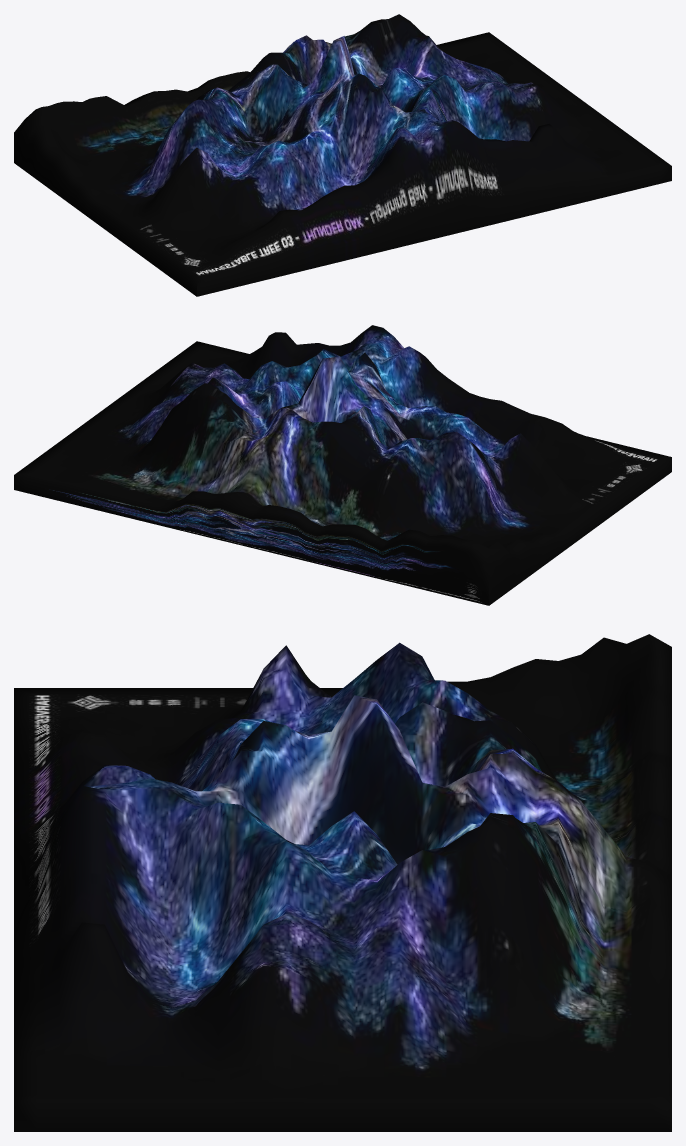
Rendered from TREE_03_Thunder_Oak.glb.
3 views of the same model, one above another, from view 1: azimuth 30°, elevation 25°; view 2: azimuth 150°, elevation 25°; view 3: azimuth 270°, elevation 25° (orthographic). The views are drawn at different scales.
Visible parts, largest first — view 1: TREE_03_Thunder_Oak; view 2: TREE_03_Thunder_Oak; view 3: TREE_03_Thunder_Oak.
Part boxes in pixels (<box>): TREE_03_Thunder_Oak: <box>14,14,671,296</box>; TREE_03_Thunder_Oak: <box>14,325,671,605</box>; TREE_03_Thunder_Oak: <box>14,634,671,1131</box>.
Size of the model in its own units: 2 by 0.51 by 1.33.
1 material, 1 textured.
